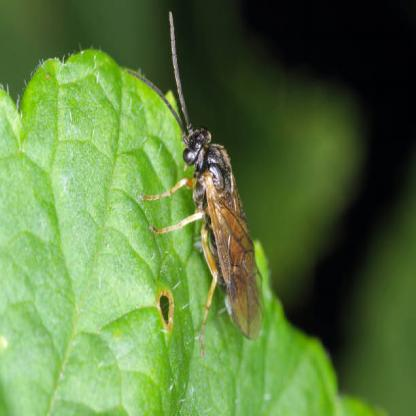sawfly: (142, 15, 266, 348)
